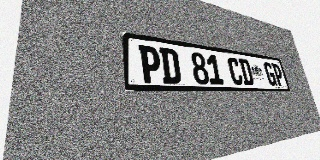1: (205, 54, 224, 85)
8: (190, 52, 210, 84)
C: (227, 57, 244, 85)
D: (159, 47, 182, 84), (238, 58, 255, 86)
G: (263, 62, 278, 86)
P: (138, 44, 162, 83), (271, 63, 285, 86)
